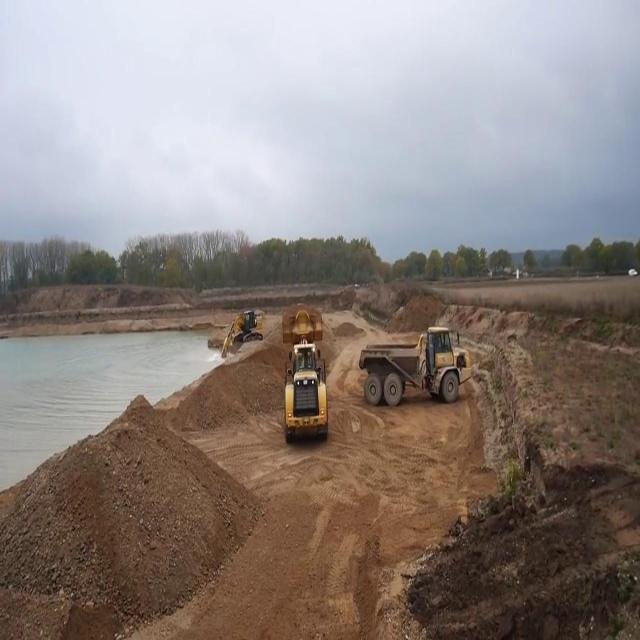buldozerpayloadergrader: (280, 300, 330, 446)
dump_truck: (357, 321, 473, 406)
excavator: (218, 308, 264, 361)
